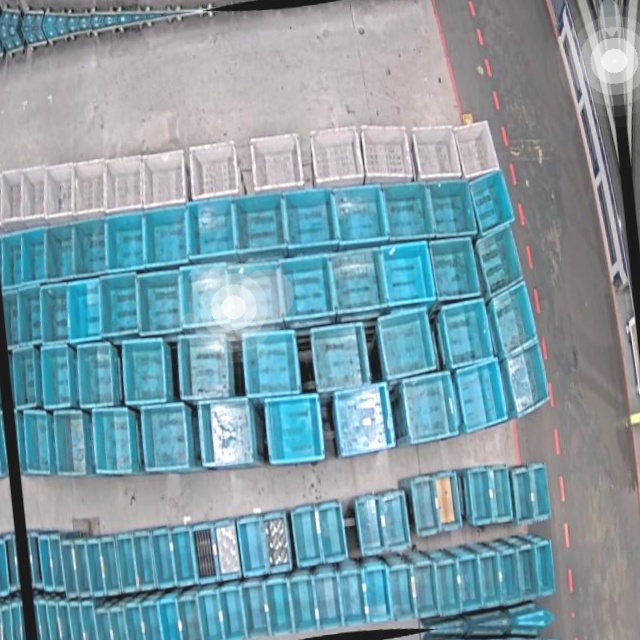Box: (241, 325, 305, 401), (264, 392, 328, 467), (376, 307, 438, 382), (333, 385, 396, 458), (311, 322, 374, 394), (401, 371, 460, 446), (439, 296, 498, 370), (455, 359, 513, 434), (489, 281, 545, 357), (473, 222, 528, 299), (329, 246, 388, 317), (500, 345, 554, 421), (381, 238, 438, 309), (179, 331, 234, 404), (276, 252, 334, 321), (202, 396, 256, 470), (428, 233, 483, 304), (229, 259, 286, 327), (358, 121, 415, 189), (307, 122, 364, 189), (248, 129, 305, 195), (177, 263, 233, 330), (140, 402, 192, 474), (284, 185, 341, 250), (233, 191, 289, 256), (331, 182, 387, 246), (118, 336, 169, 406), (186, 140, 241, 204), (381, 178, 435, 243), (184, 196, 238, 261), (426, 174, 478, 240), (468, 168, 518, 236), (87, 407, 135, 477), (142, 203, 194, 267), (412, 122, 464, 186), (139, 149, 190, 214), (134, 270, 184, 335), (452, 118, 502, 183), (97, 272, 142, 339), (76, 341, 120, 409), (103, 211, 150, 274), (101, 155, 148, 217), (67, 159, 111, 220), (66, 279, 107, 342), (53, 410, 91, 476), (71, 216, 112, 277), (40, 344, 77, 409), (41, 221, 79, 281), (21, 410, 55, 477), (40, 163, 78, 222), (39, 283, 74, 344), (377, 491, 410, 553), (290, 504, 322, 567), (12, 346, 44, 409), (411, 474, 443, 537), (16, 225, 50, 284), (236, 515, 268, 577), (317, 500, 349, 562), (434, 468, 465, 531), (262, 511, 292, 574), (17, 167, 50, 224), (355, 496, 386, 556), (465, 468, 497, 526), (15, 286, 46, 345), (338, 567, 368, 627), (314, 573, 344, 630), (214, 518, 242, 579), (411, 562, 440, 620), (388, 564, 417, 621), (363, 565, 392, 622), (289, 575, 317, 634), (265, 580, 293, 638), (456, 555, 484, 612), (172, 525, 198, 586), (435, 560, 463, 616), (0, 170, 28, 226), (192, 526, 219, 584), (242, 581, 269, 638), (152, 528, 177, 589), (131, 530, 156, 591), (219, 587, 247, 640), (478, 554, 504, 610), (0, 232, 26, 287), (510, 468, 535, 525), (116, 534, 139, 594), (517, 545, 541, 602), (99, 536, 122, 595), (498, 552, 522, 605), (535, 540, 557, 597), (530, 464, 551, 523), (198, 591, 223, 640), (85, 538, 105, 597), (73, 539, 93, 598), (178, 595, 203, 640), (157, 597, 183, 640), (61, 540, 79, 600), (40, 535, 59, 591), (48, 535, 65, 594), (28, 531, 44, 591), (139, 602, 163, 640), (38, 534, 54, 591), (124, 603, 148, 640), (110, 604, 132, 640), (82, 602, 102, 640), (68, 600, 87, 640), (35, 600, 53, 640), (57, 600, 74, 640), (94, 608, 115, 640), (47, 600, 63, 640)
